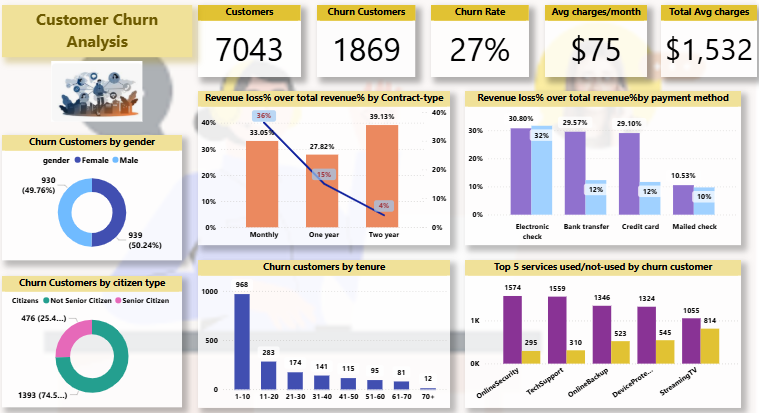

The dashboard page shown, as its layout file describes it:
{"tool":"powerbi","page":{"name":"Churn details","canvas":[1280,720],"ordinal":1},"visuals":[{"type":"card","title":"Customers","fields":{"Values":["Measure Table.Total Customers"]},"box":[337.1,25.7,171.4,120],"z":0},{"type":"card","title":"Churn Customers","fields":{"Values":["Measure Table.Churn Customers"]},"box":[535.7,25.7,164.3,120],"z":1000},{"type":"card","title":"Churn Rate","fields":{"Values":["Measure Table.Churn rate"]},"box":[724.3,25.7,162.9,120],"z":2000},{"type":"card","title":"Avg charges/month","fields":{"Values":["Measure Table.Churn avg monthly charges"]},"box":[915.7,25.7,170,120],"z":3000},{"type":"card","title":"Total Avg charges","fields":{"Values":["Measure Table.Churn total avg charges"]},"box":[1108.6,25.7,160,120],"z":4000},{"type":"textbox","box":[10,25.7,316.8,87],"z":5000},{"type":"donutChart","title":"Churn Customers by gender","fields":{"Category":["Table13.gender"],"Y":["Measure Table.Churn Customers"]},"box":[10,241.4,300,208.6],"z":6000},{"type":"donutChart","title":"Churn Customers by citizen type","fields":{"Category":["Table13.Is_seniorcitizen"],"Y":["Measure Table.Churn Customers"]},"box":[10,477.1,300,218.6],"z":7000},{"type":"lineClusteredColumnComboChart","title":"Revenue loss% over total revenue% by Contract-type","fields":{"Category":["Table13.Contract_status"],"Y":["Measure Table.Total revenue generated"],"Y2":["Measure Table.Total Revenue loss%"]},"box":[337.1,168.6,420,257.1],"z":8000},{"type":"lineClusteredColumnComboChart","title":"Churn customers by tenure","fields":{"Category":["Churn Customer.tenure_range"],"Y":["Measure Table.Churn Customers"]},"box":[337.1,450,420,245.7],"z":9000},{"type":"lineClusteredColumnComboChart","title":"Revenue loss% over total revenue%by payment method","fields":{"Category":["Churn Customer.PaymentMethod"],"Y":["Measure Table.Total revenue generated","Measure Table.Total Revenue loss%"]},"box":[781.4,168.6,460,257.1],"z":10000},{"type":"lineClusteredColumnComboChart","title":"Top 5 services used/not-used  by churn customer","fields":{"Category":["Services.Attribute"],"Y":["Measure Table.ChurnCustomersNotUsingServices","Measure Table.ChurnCutomerUsingServices"]},"box":[781.4,450,460,245.7],"z":11000},{"type":"image","box":[24.3,112.7,285.4,111.3],"z":12000}]}

Visuals, with their boxes on the page's 1280x720 design canvas (x1, y1, x2, y2). These are canvas units, not pixel positions in the 759x413 screenshot, which may show the page scaled, cropped or inside an application window:
"Customers" card: (337, 26, 508, 146)
"Churn Customers" card: (536, 26, 700, 146)
"Churn Rate" card: (724, 26, 887, 146)
"Avg charges/month" card: (916, 26, 1086, 146)
"Total Avg charges" card: (1109, 26, 1269, 146)
textbox: (10, 26, 327, 113)
"Churn Customers by gender" donutChart: (10, 241, 310, 450)
"Churn Customers by citizen type" donutChart: (10, 477, 310, 696)
"Revenue loss% over total revenue% by Contract-type" lineClusteredColumnComboChart: (337, 169, 757, 426)
"Churn customers by tenure" lineClusteredColumnComboChart: (337, 450, 757, 696)
"Revenue loss% over total revenue%by payment method" lineClusteredColumnComboChart: (781, 169, 1241, 426)
"Top 5 services used/not-used  by churn customer" lineClusteredColumnComboChart: (781, 450, 1241, 696)
image: (24, 113, 310, 224)
